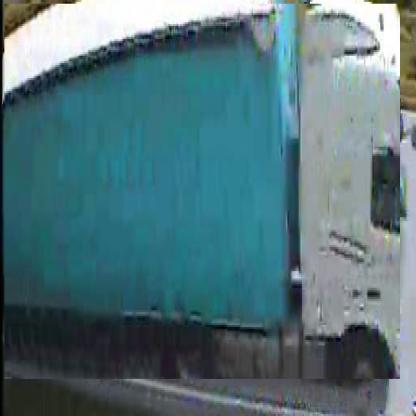container: (5, 5, 402, 382)
